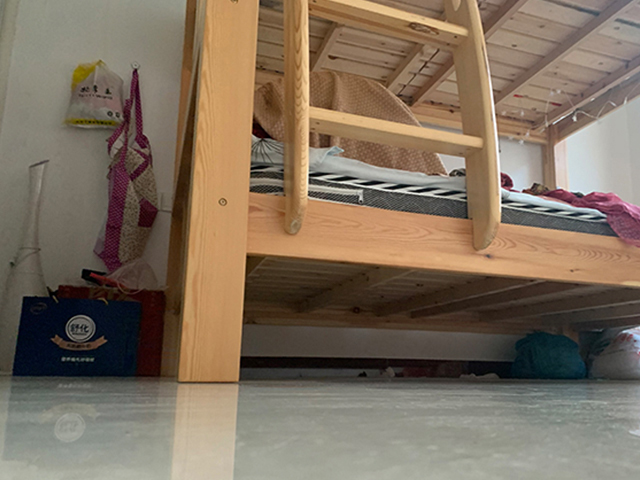bed: (162, 1, 640, 383)
